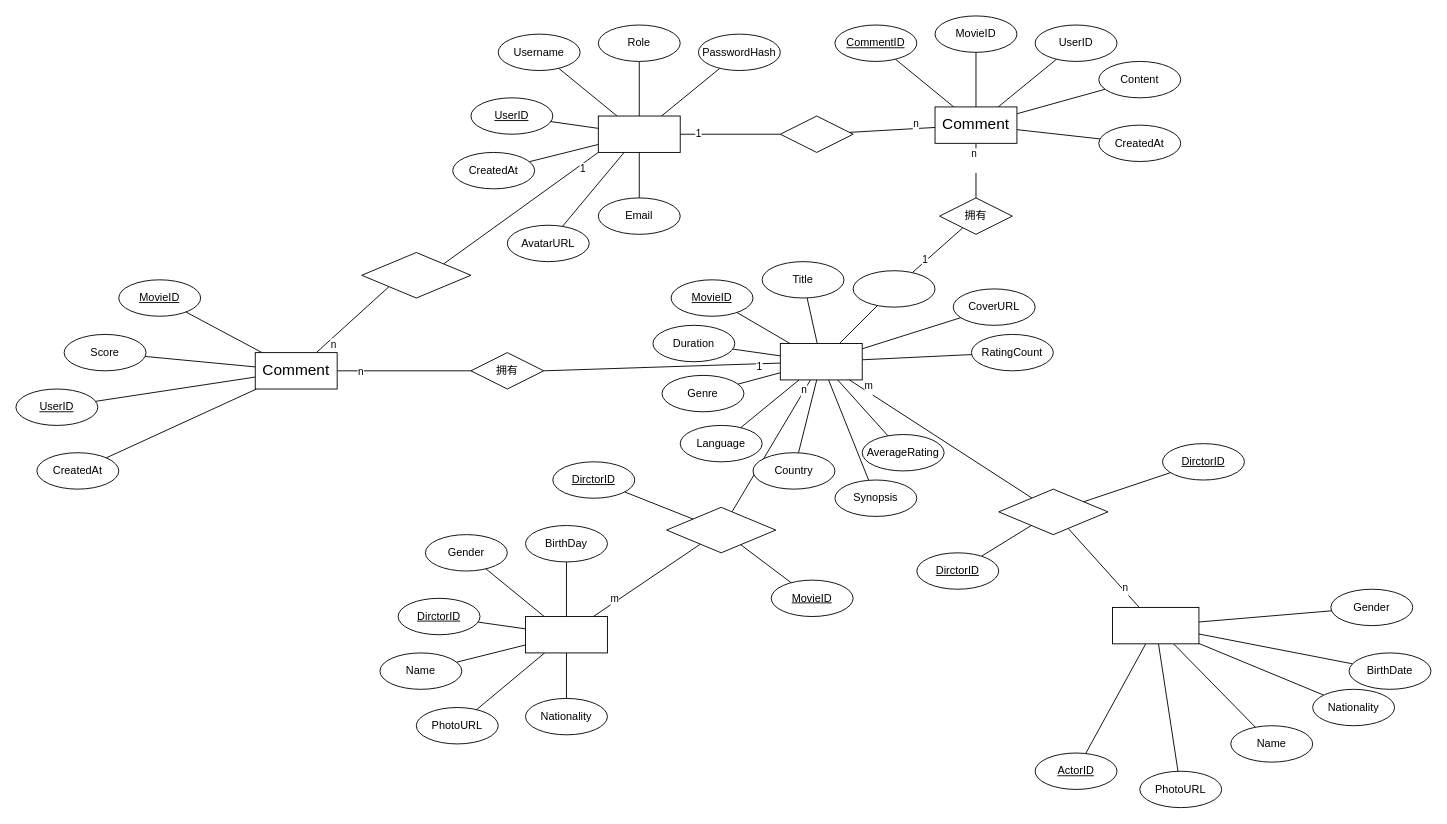
This 1447x824 diagram has some shape labels left out. Here are the shapes that lost their labels. From the top down, the box of each, then its label:
(597, 115, 680, 152): Users
(779, 115, 853, 152): 发表
(361, 252, 471, 298): 评论
(852, 270, 935, 307): ReleaseYear
(779, 343, 862, 380): Movies
(666, 506, 776, 553): MovieDirectors
(998, 488, 1108, 535): MovieActors
(525, 616, 607, 653): Directors
(1112, 607, 1199, 644): Actors
